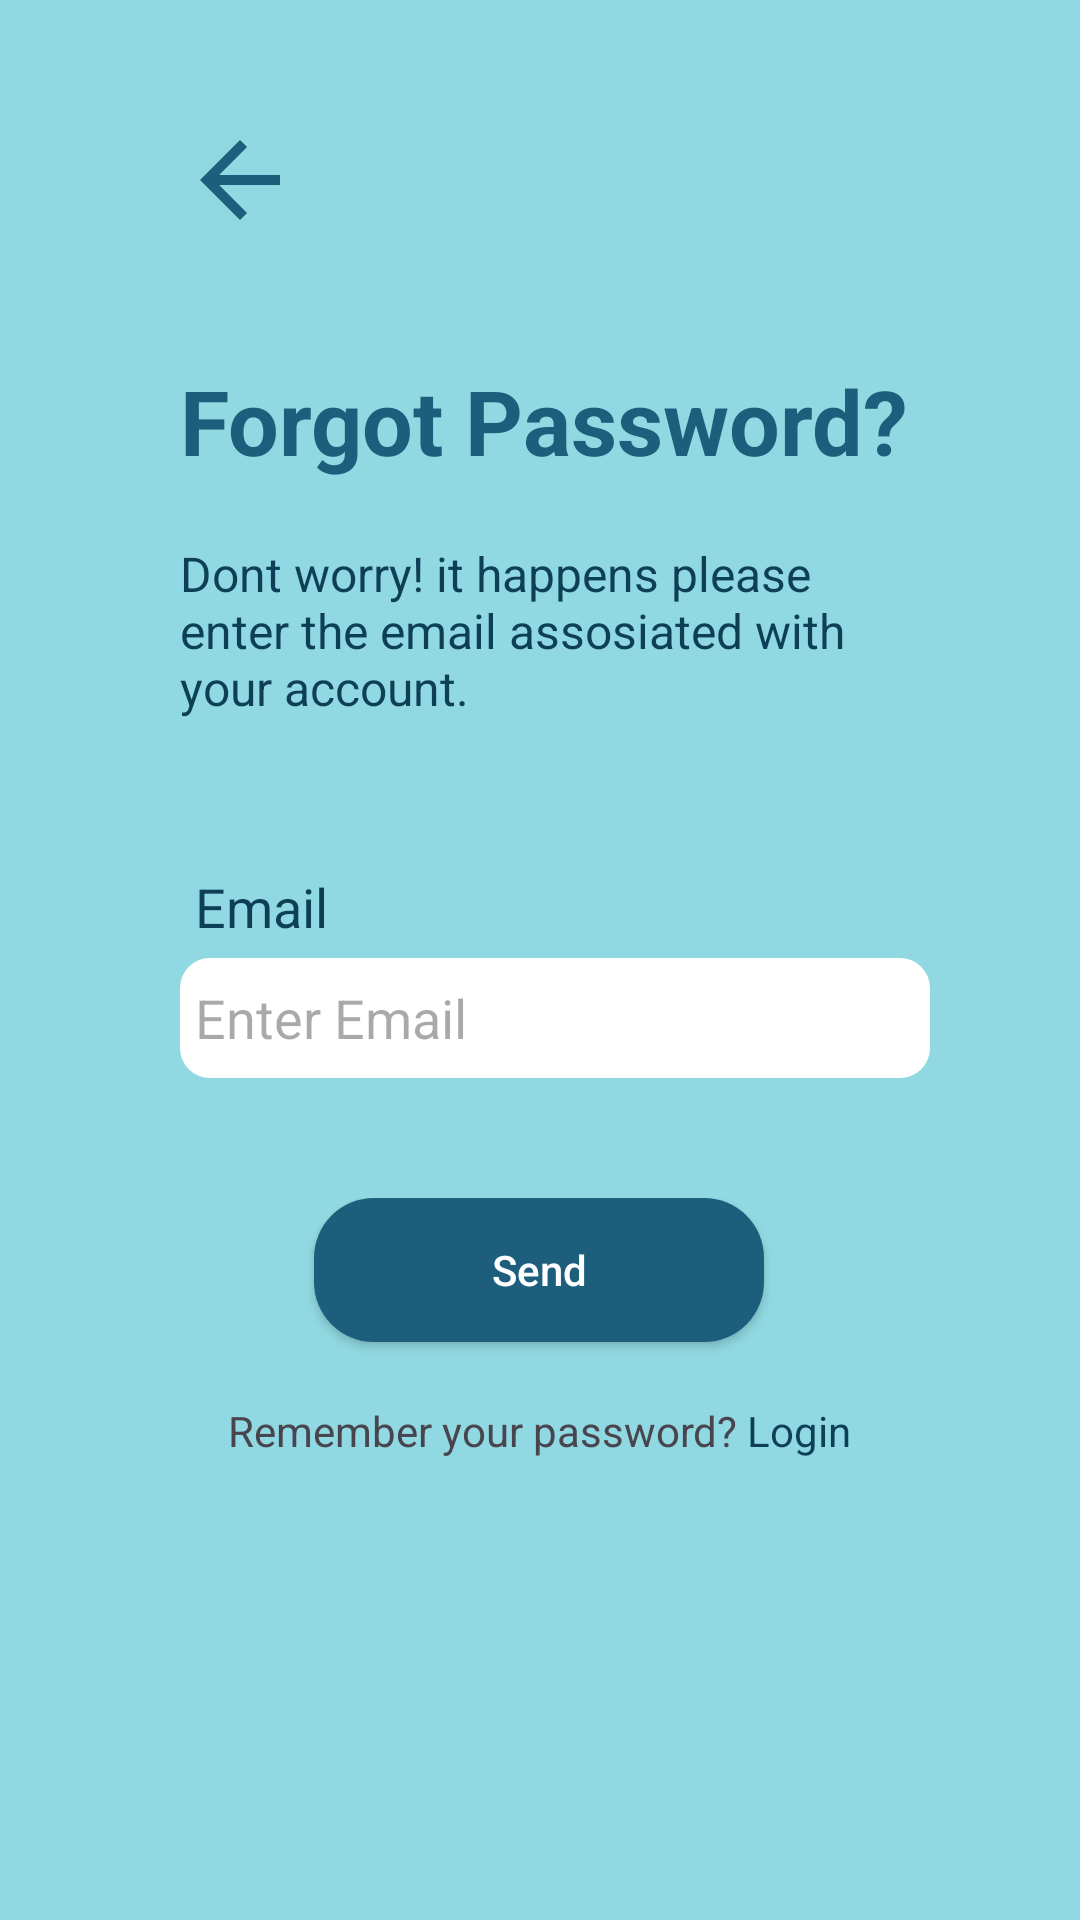

Named icons in this screenshot (1080×1920) and their bounding boxes, (x1, y1, x2, y2):
backarrow: (200, 140, 280, 220)
